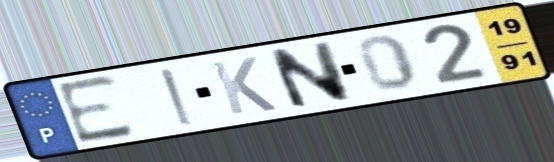0: (355, 32, 422, 94)
2: (424, 20, 495, 89)
E: (51, 71, 140, 148)
I: (155, 66, 200, 129)
K: (206, 54, 281, 117)
N: (263, 38, 355, 113)
